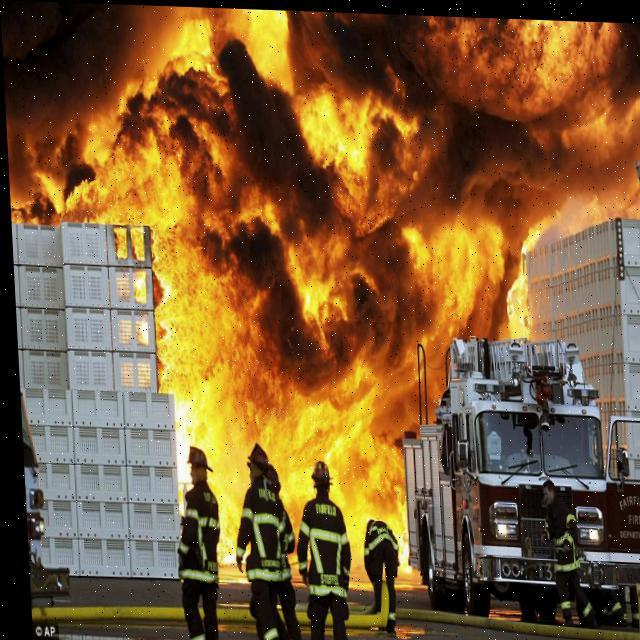Fire: (102, 213, 292, 573), (235, 348, 418, 584), (294, 83, 429, 260), (19, 130, 185, 240)
